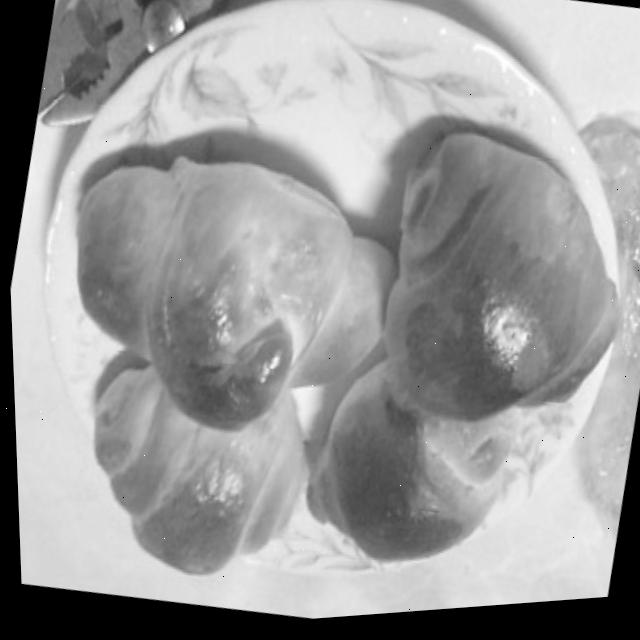面包点心: (3, 45, 640, 640)
